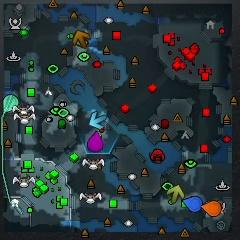p1: (182, 196, 203, 212)
p2: (3, 95, 19, 114)
p3: (88, 131, 103, 152)
p5: (201, 201, 221, 217)
x2: (167, 185, 185, 203)
x3: (89, 111, 107, 130)
x5: (72, 31, 90, 48)
